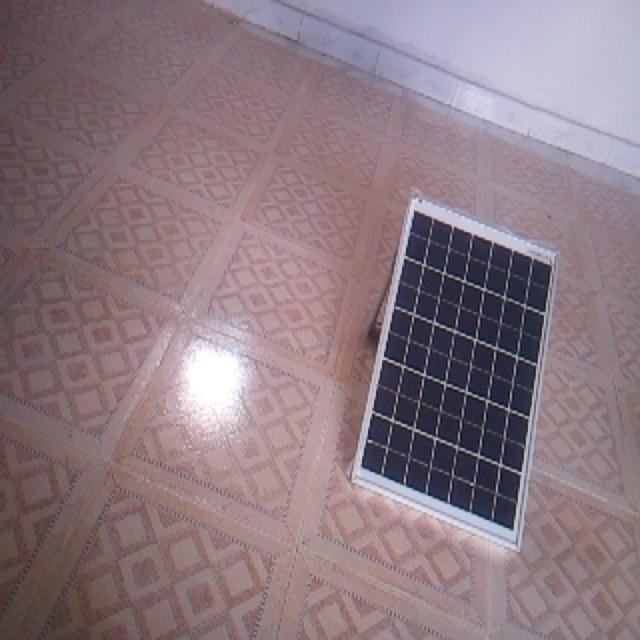Normal Solar Panel: (354, 196, 559, 552)
